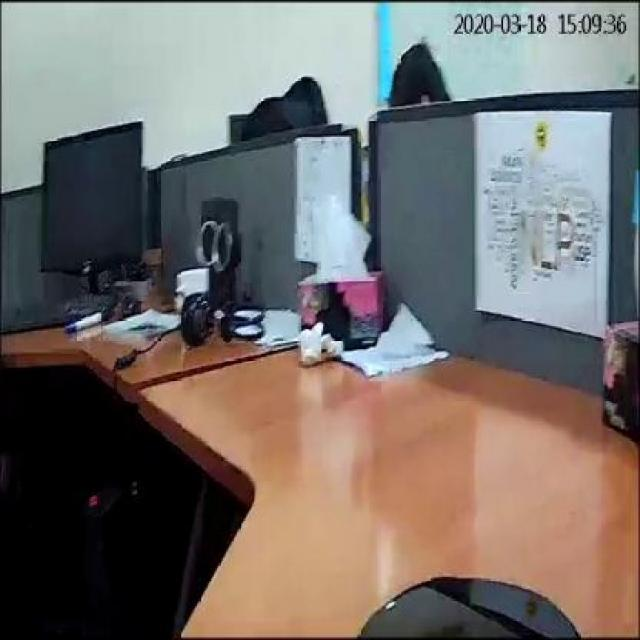spill: (358, 576, 576, 635)
